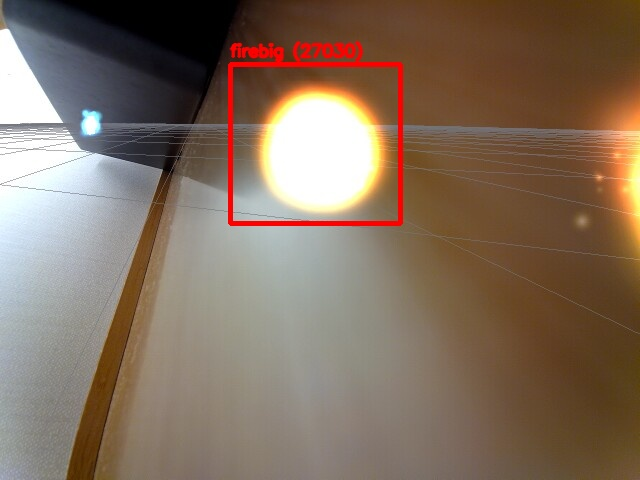firebig: (230, 64, 400, 223)
